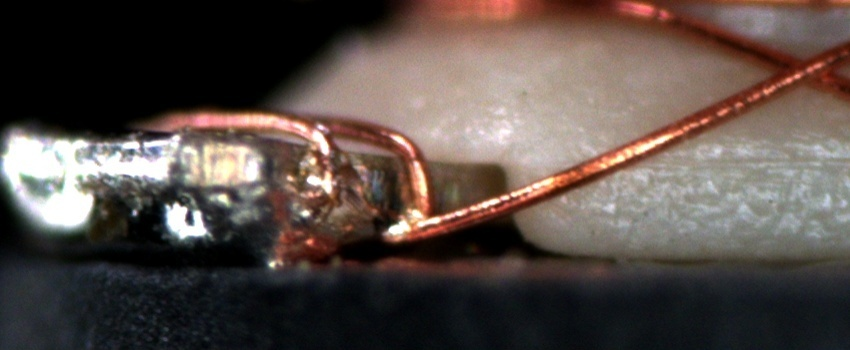CL: (755, 41, 840, 95)
DL: (619, 132, 850, 196)
TE: (142, 104, 433, 222)
